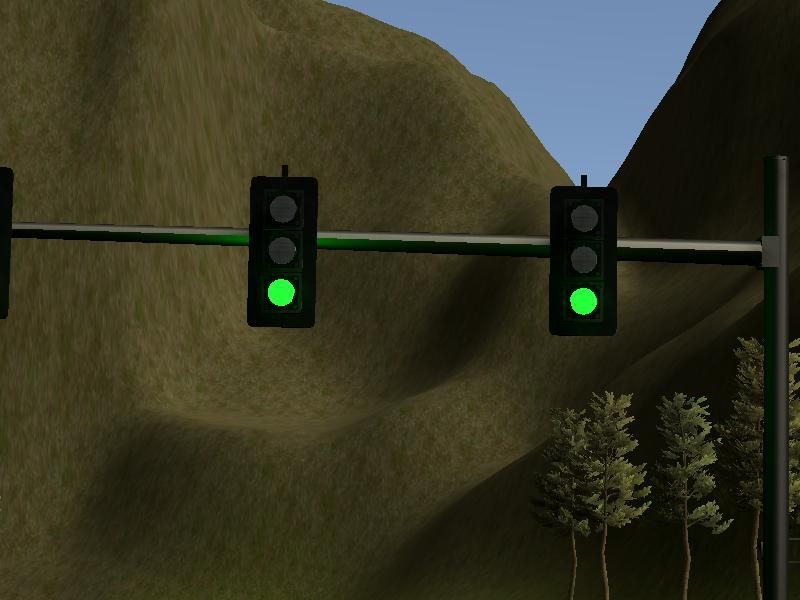Green: (248, 172, 319, 330), (549, 182, 619, 338)
